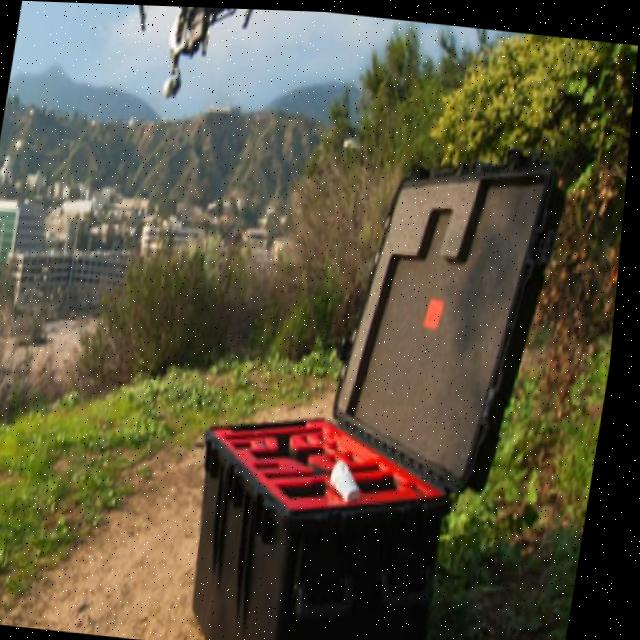drones: (106, 3, 277, 127)
